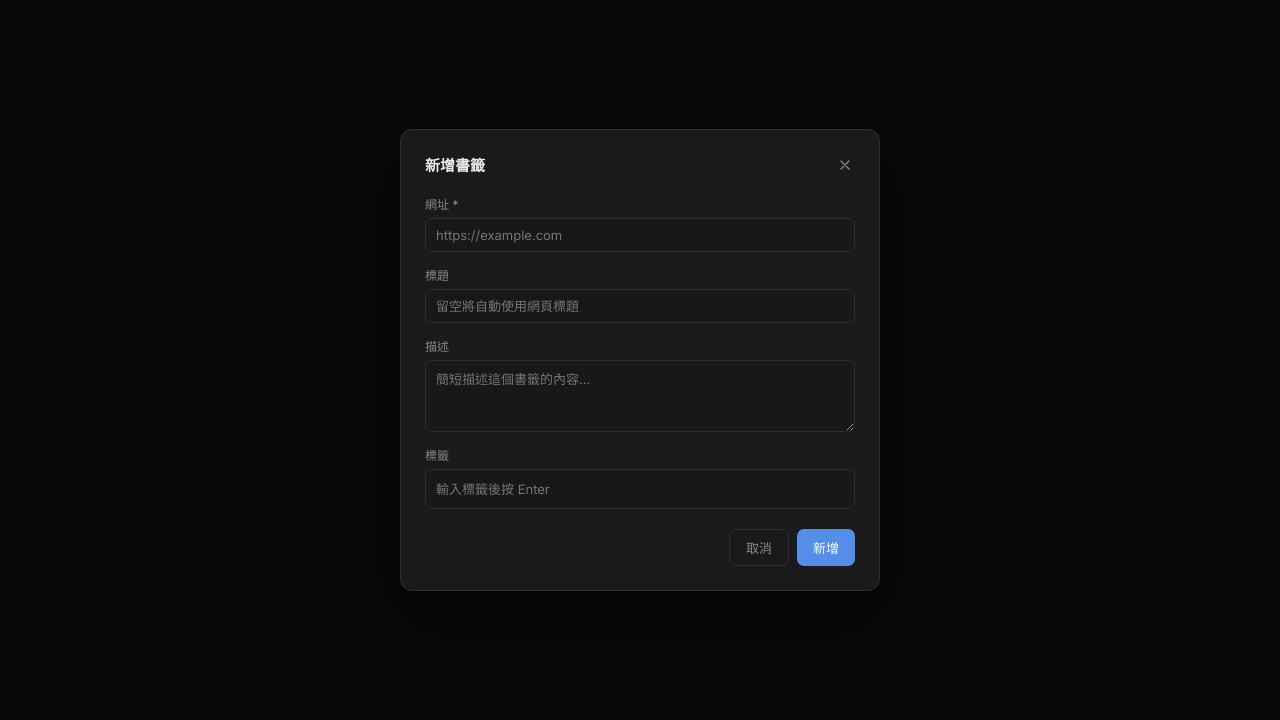
Test: BookmarkModal › 輸入 tag 後按 Enter → tag 出現在畫面
Type "react" into the field with placeholder "輸入標籤後按 Enter" at (640, 489), box [436,476,844,502]
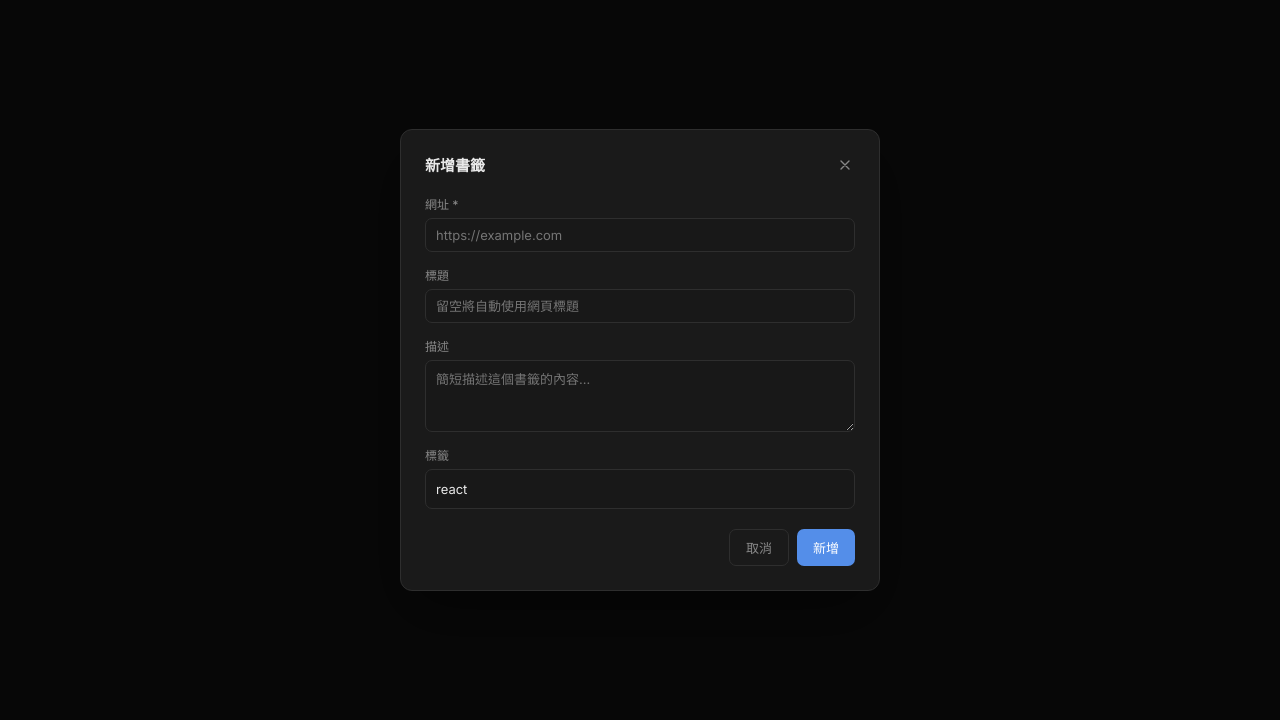
Press Enter in the field with placeholder "輸入標籤後按 Enter", box [436,476,844,502]
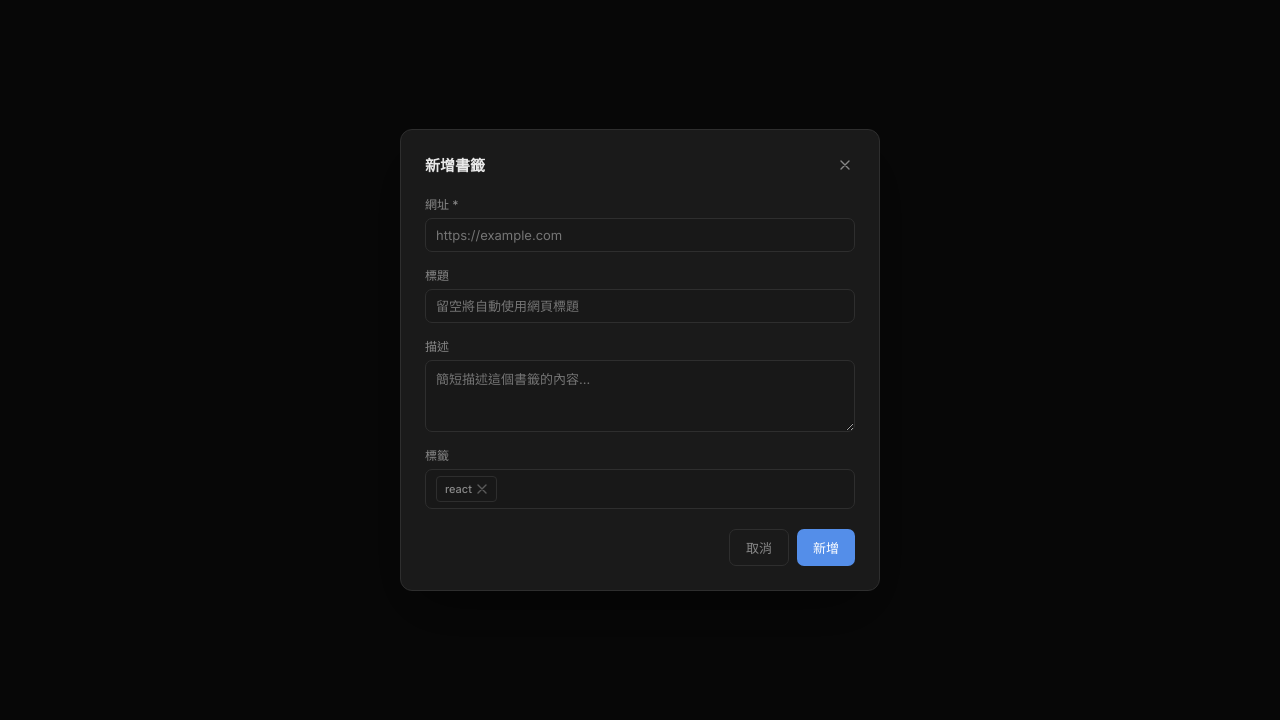
Check: the text "react" is shown, box [436,476,497,502]
